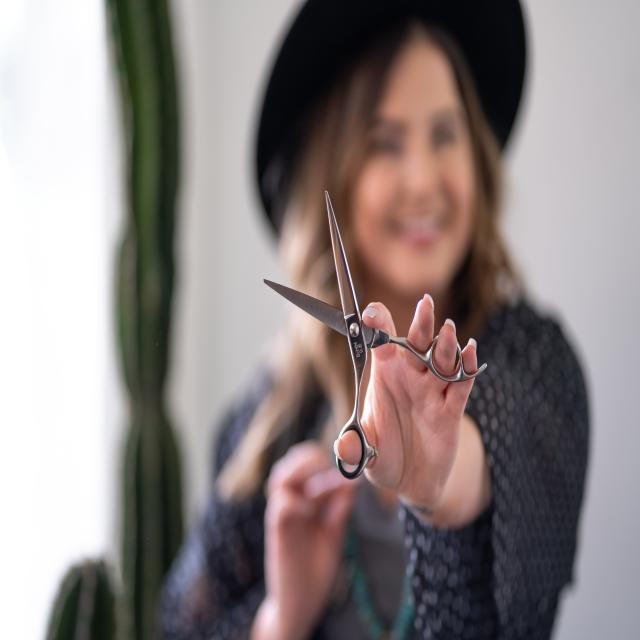scissor: (258, 190, 491, 478)
